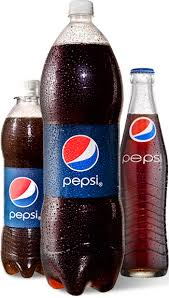bottle: (42, 1, 121, 293), (4, 80, 45, 279)
pepsi: (59, 135, 105, 189)
plastic: (43, 2, 121, 292), (4, 79, 44, 277)
